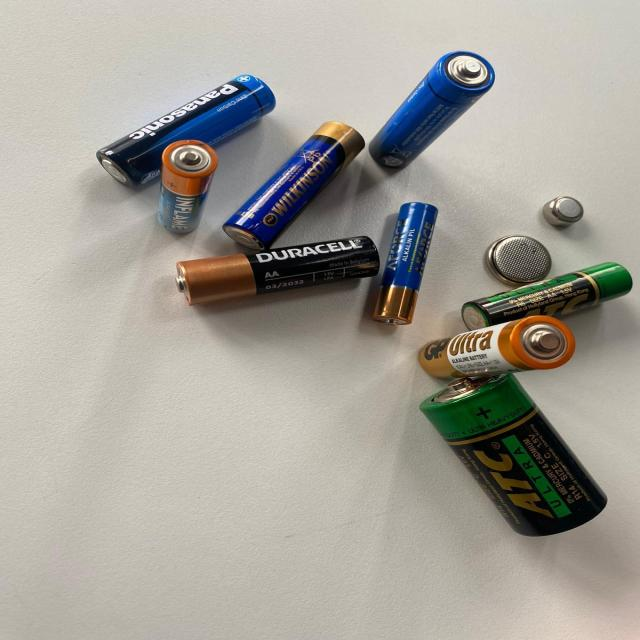AA: (92, 71, 278, 189), (218, 119, 369, 254), (173, 233, 383, 308), (367, 51, 499, 170), (459, 259, 636, 333), (416, 315, 580, 383), (369, 200, 442, 327), (156, 138, 219, 237)
COIN: (481, 235, 553, 288), (540, 193, 584, 228)
